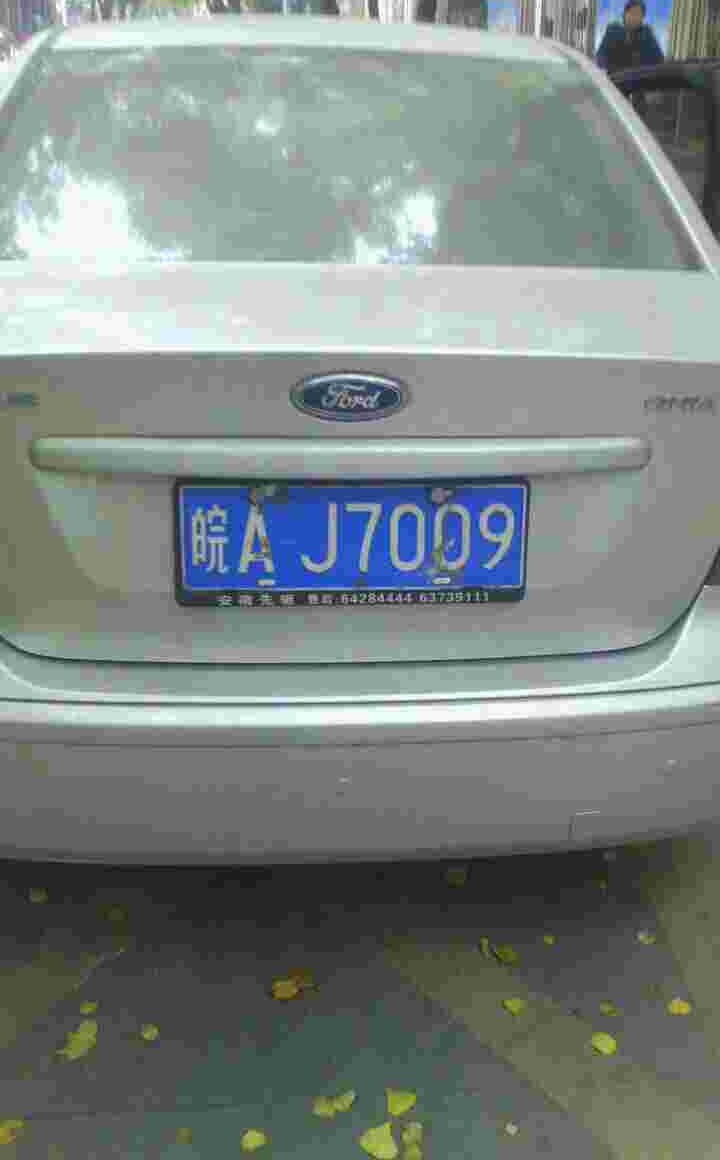license_plate: (170, 487, 532, 604)
